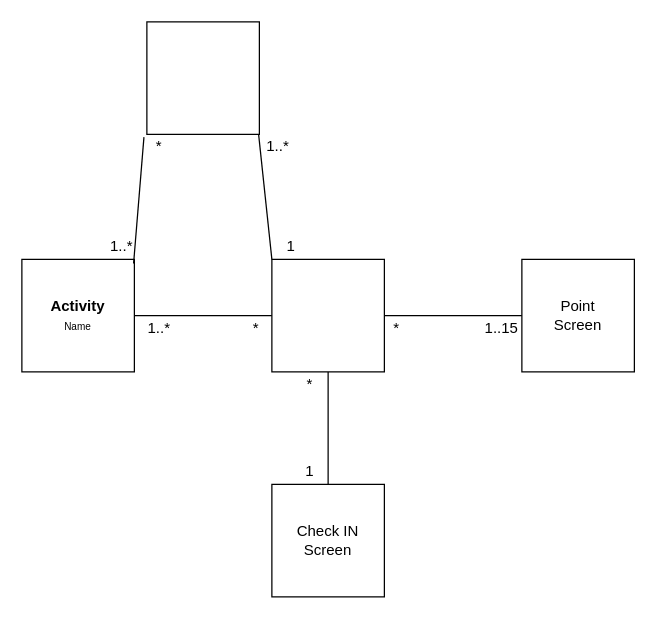
Image size: 656x619. Some labels were removed from this diagram. Here are the shapes that lost their labels. From the top down, the box of each, then its label:
(146, 21, 259, 134): Guest Name Email Points
(271, 258, 384, 372): Booking ID, Date, Name Time of Arrival Amount of guests Contact email
